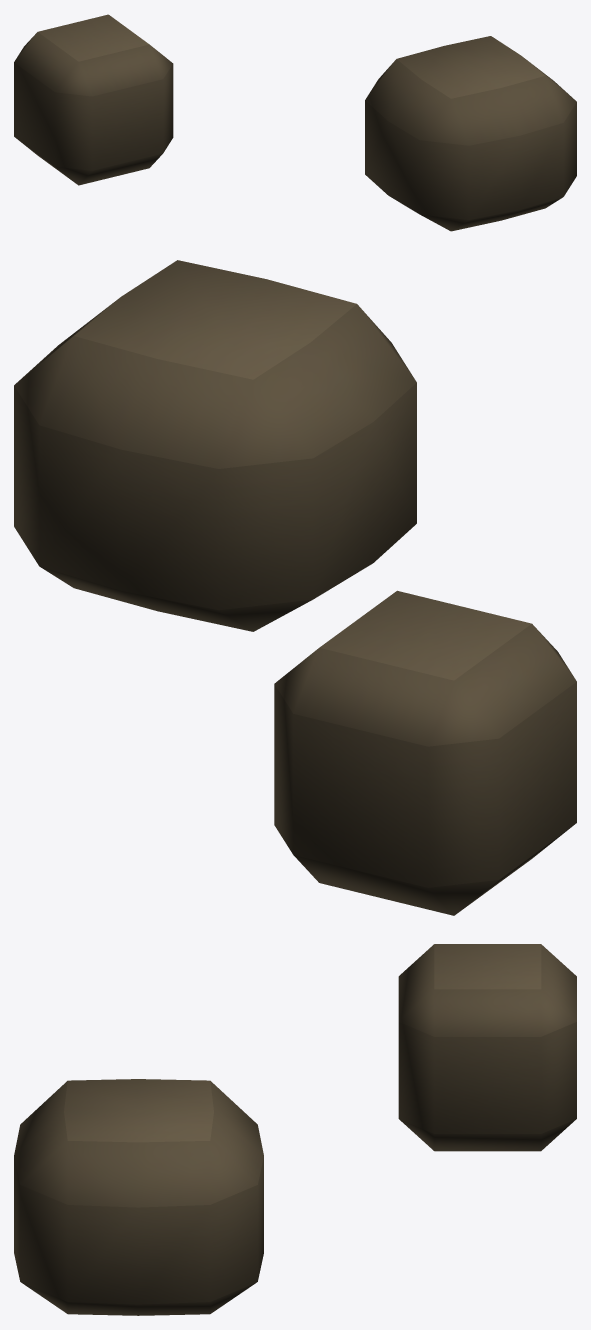
The model's file is deco_desert_pebbles_2.fbx.
3 views of the same model, one above another, from view 1: azimuth 30°, elevation 25°; view 2: azimuth 150°, elevation 25°; view 3: azimuth 270°, elevation 25° (orthographic). The views are drawn at different scales.
Parts seen in each view (by area): view 1: deco_desert_pebbles1_2_LOD0; view 2: deco_desert_pebbles1_2_LOD0; view 3: deco_desert_pebbles1_2_LOD0.
Part boxes in pixels (left/top/right/bottom): deco_desert_pebbles1_2_LOD0: left=14, top=14, right=576, bottom=231; deco_desert_pebbles1_2_LOD0: left=14, top=260, right=576, bottom=915; deco_desert_pebbles1_2_LOD0: left=14, top=944, right=576, bottom=1315.
Size of what is drawn, in the model's own units: 48.95 by 16.08 by 47.31.
